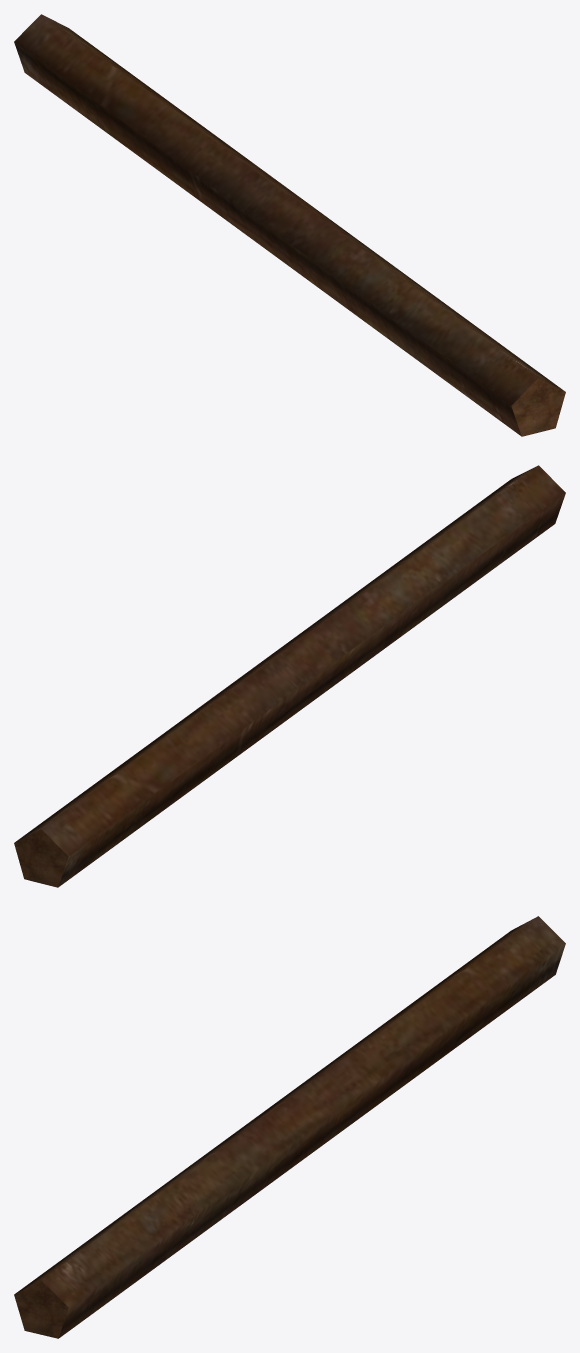
File: furniture_plainchair_shardrail.glb
3 renders of one model, top to bottom at view 1: azimuth 30°, elevation 25°; view 2: azimuth 150°, elevation 25°; view 3: azimuth 330°, elevation 25°, orthographic.
Size of the model in its own units: 1.11 by 1.06 by 17.46.
1 material, 1 textured.
